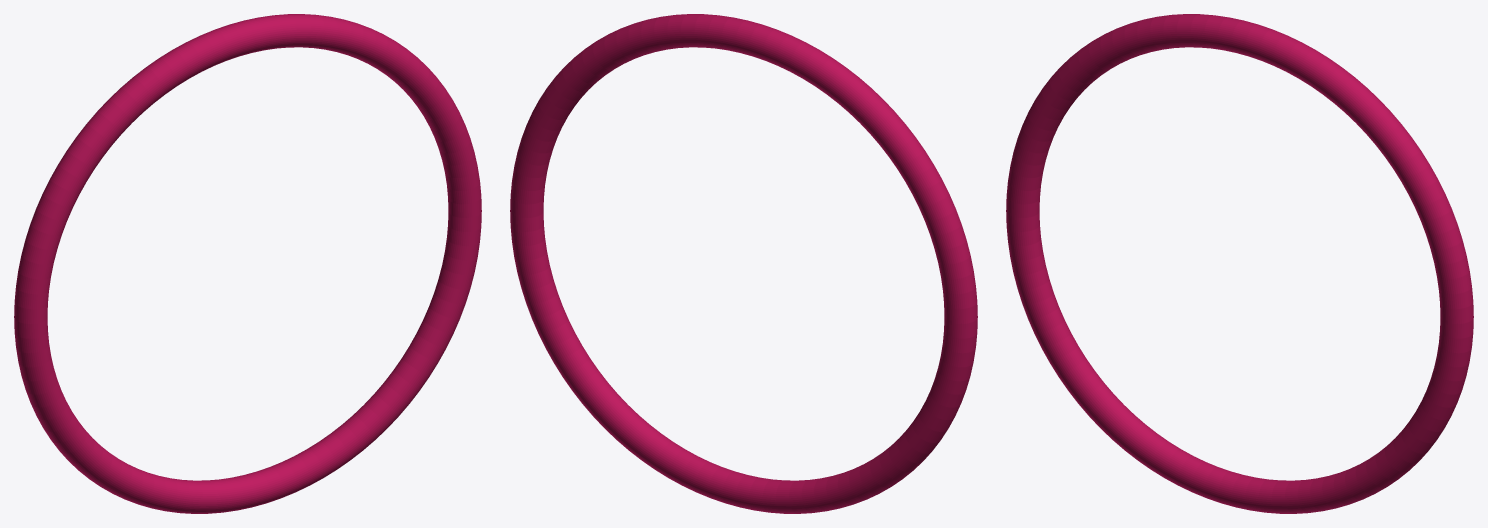
The picture shows the model from 3 angles, left to right: view 1: azimuth 30°, elevation 25°; view 2: azimuth 150°, elevation 25°; view 3: azimuth 330°, elevation 25°; orthographic projection.
Visible parts, largest first — view 1: world; view 2: world; view 3: world.
Part boxes in pixels (x1=…): world: x1=14, y1=14, x2=481, y2=513; world: x1=510, y1=14, x2=977, y2=513; world: x1=1006, y1=14, x2=1473, y2=513.
Size of the model in its own units: 32 by 32 by 2.
